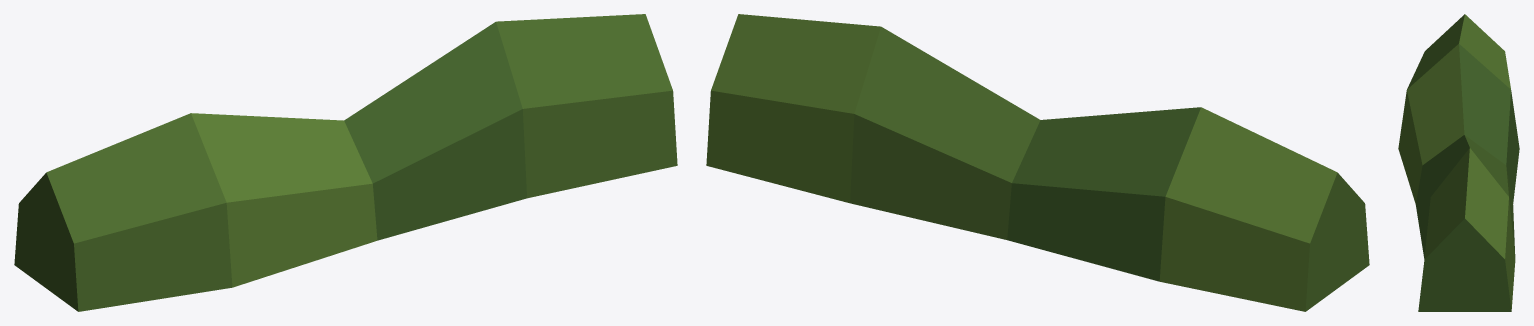
Rendered from land_hedgerow_a_far.glb.
The picture shows the model from 3 angles, left to right: view 1: azimuth 30°, elevation 25°; view 2: azimuth 150°, elevation 25°; view 3: azimuth 270°, elevation 25°; orthographic projection. The views are drawn at different scales.
Parts seen in each view (by area): view 1: land_hedgerow_a_far; view 2: land_hedgerow_a_far; view 3: land_hedgerow_a_far.
Boxes of the visible parts, x1,y1,x2,y2 form: land_hedgerow_a_far: (14, 14, 677, 311); land_hedgerow_a_far: (706, 14, 1369, 311); land_hedgerow_a_far: (1398, 14, 1519, 311).
Bounding box in the file's own units: 8 × 1.96 × 1.92.
